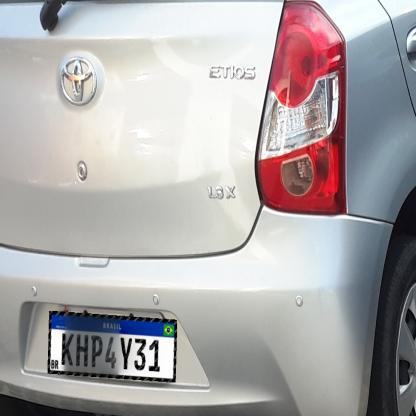PlacaM: (48, 311, 177, 382)
